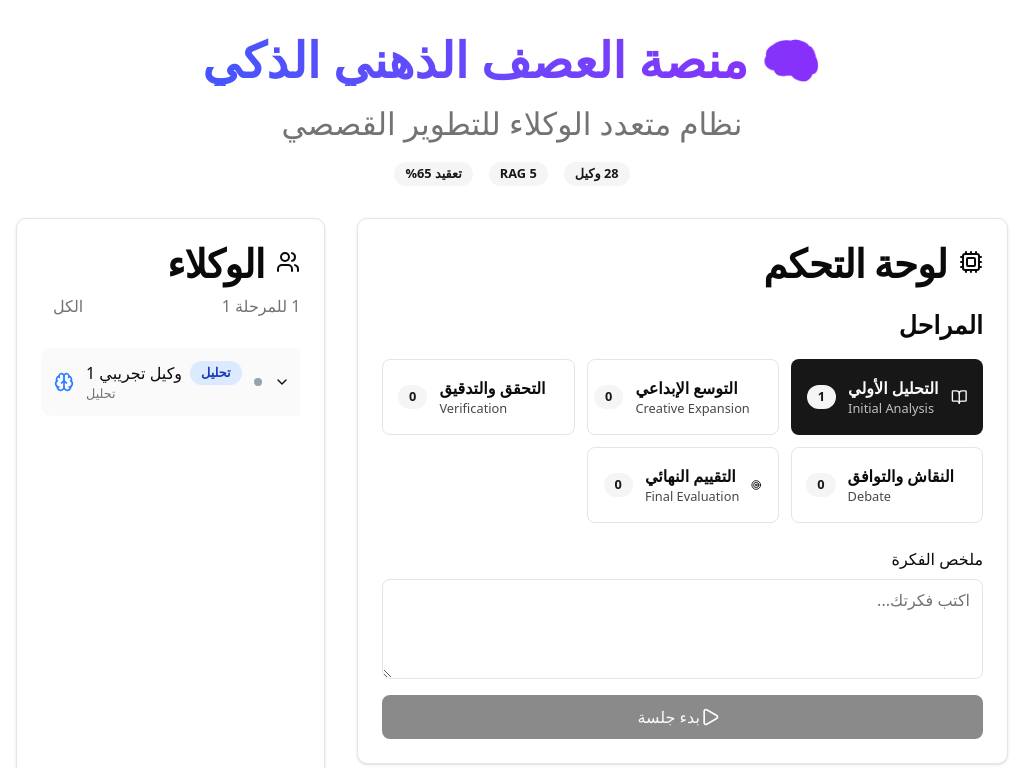
BrainStormContent › عرض الوكلاء › يمكن التبديل بين عرض جميع الوكلاء ووكلاء المرحلة
Click the button "الكل" at (68, 306), box x1=41 y1=288 x2=95 y2=324
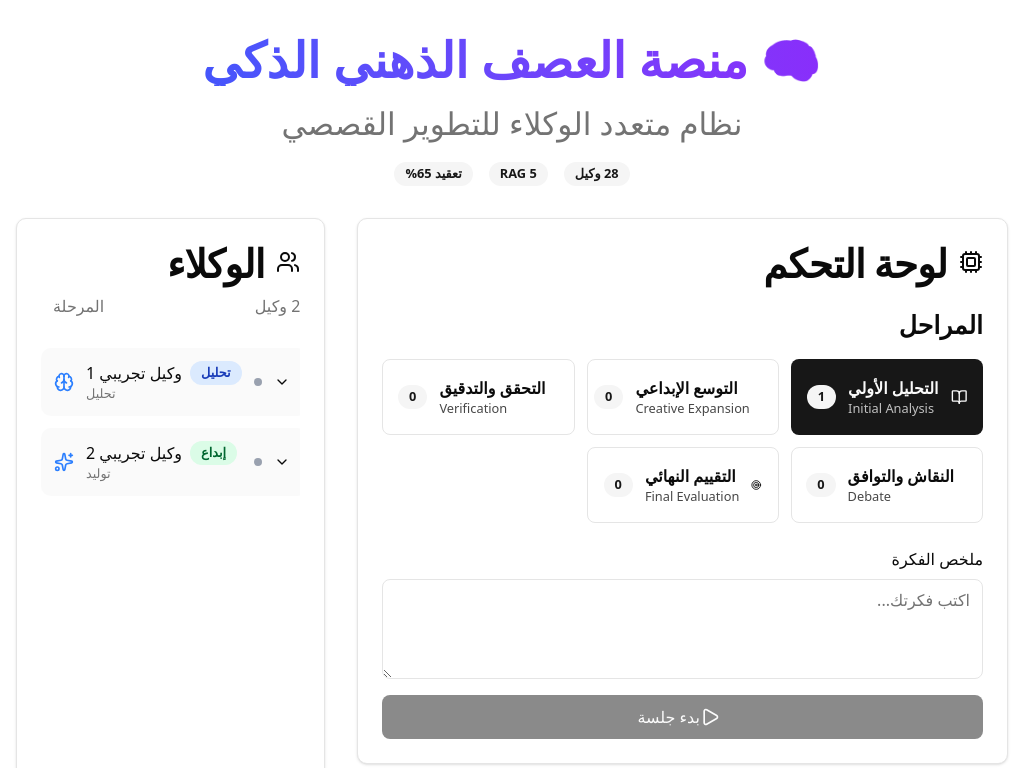
Now the text "وكيل تجريبي 2" is shown, box x1=86 y1=441 x2=182 y2=465
